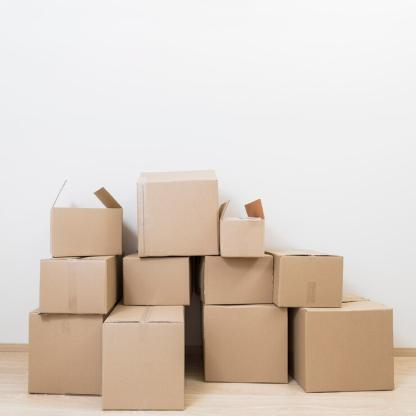box: (102, 321, 182, 410), (308, 310, 394, 392), (203, 306, 288, 385), (138, 180, 219, 257), (28, 313, 102, 397), (40, 259, 108, 314), (52, 207, 122, 257), (278, 255, 344, 308), (206, 255, 274, 306), (122, 256, 190, 306), (221, 218, 265, 258)
